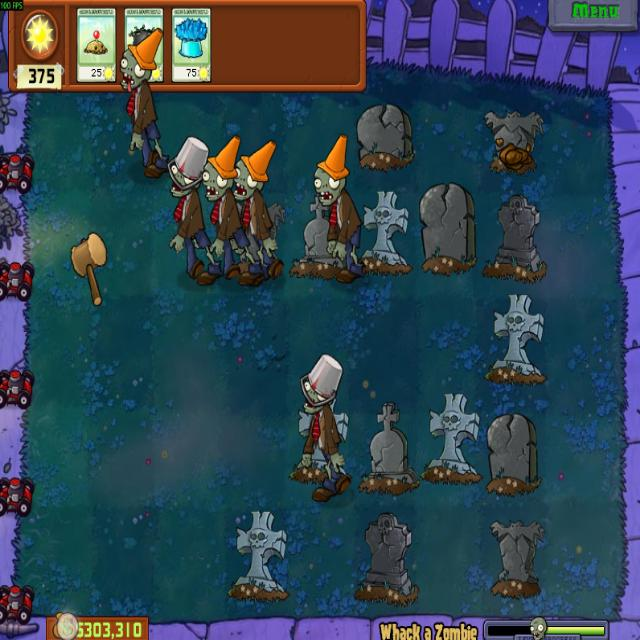buckethead: (296, 352, 344, 414), (166, 137, 209, 199)
conehead: (115, 27, 165, 92), (310, 133, 350, 208), (232, 140, 279, 201), (203, 136, 240, 200)
grave: (413, 183, 477, 274), (420, 392, 482, 484), (356, 400, 418, 492), (484, 192, 546, 283), (356, 512, 418, 603), (484, 296, 546, 386), (230, 512, 292, 601), (294, 398, 352, 482), (358, 186, 411, 274), (486, 412, 542, 493), (490, 512, 542, 598), (294, 194, 344, 276), (482, 106, 545, 167), (356, 102, 412, 170), (233, 205, 282, 272)
gravebuster: (124, 9, 164, 82)
